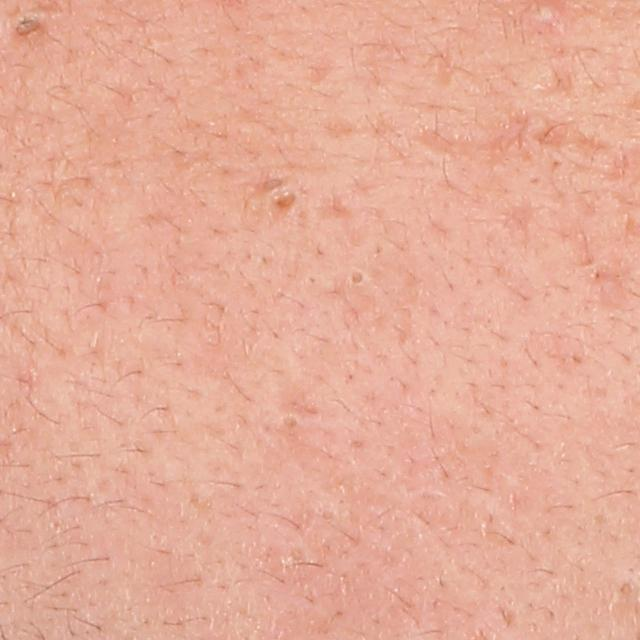atrophic_scar: (535, 121, 623, 157), (499, 195, 551, 244), (413, 129, 483, 165), (533, 73, 571, 103), (270, 190, 301, 217), (326, 118, 356, 138), (262, 176, 288, 193)
comedo: (11, 10, 52, 45), (348, 266, 369, 287), (279, 411, 300, 430)
